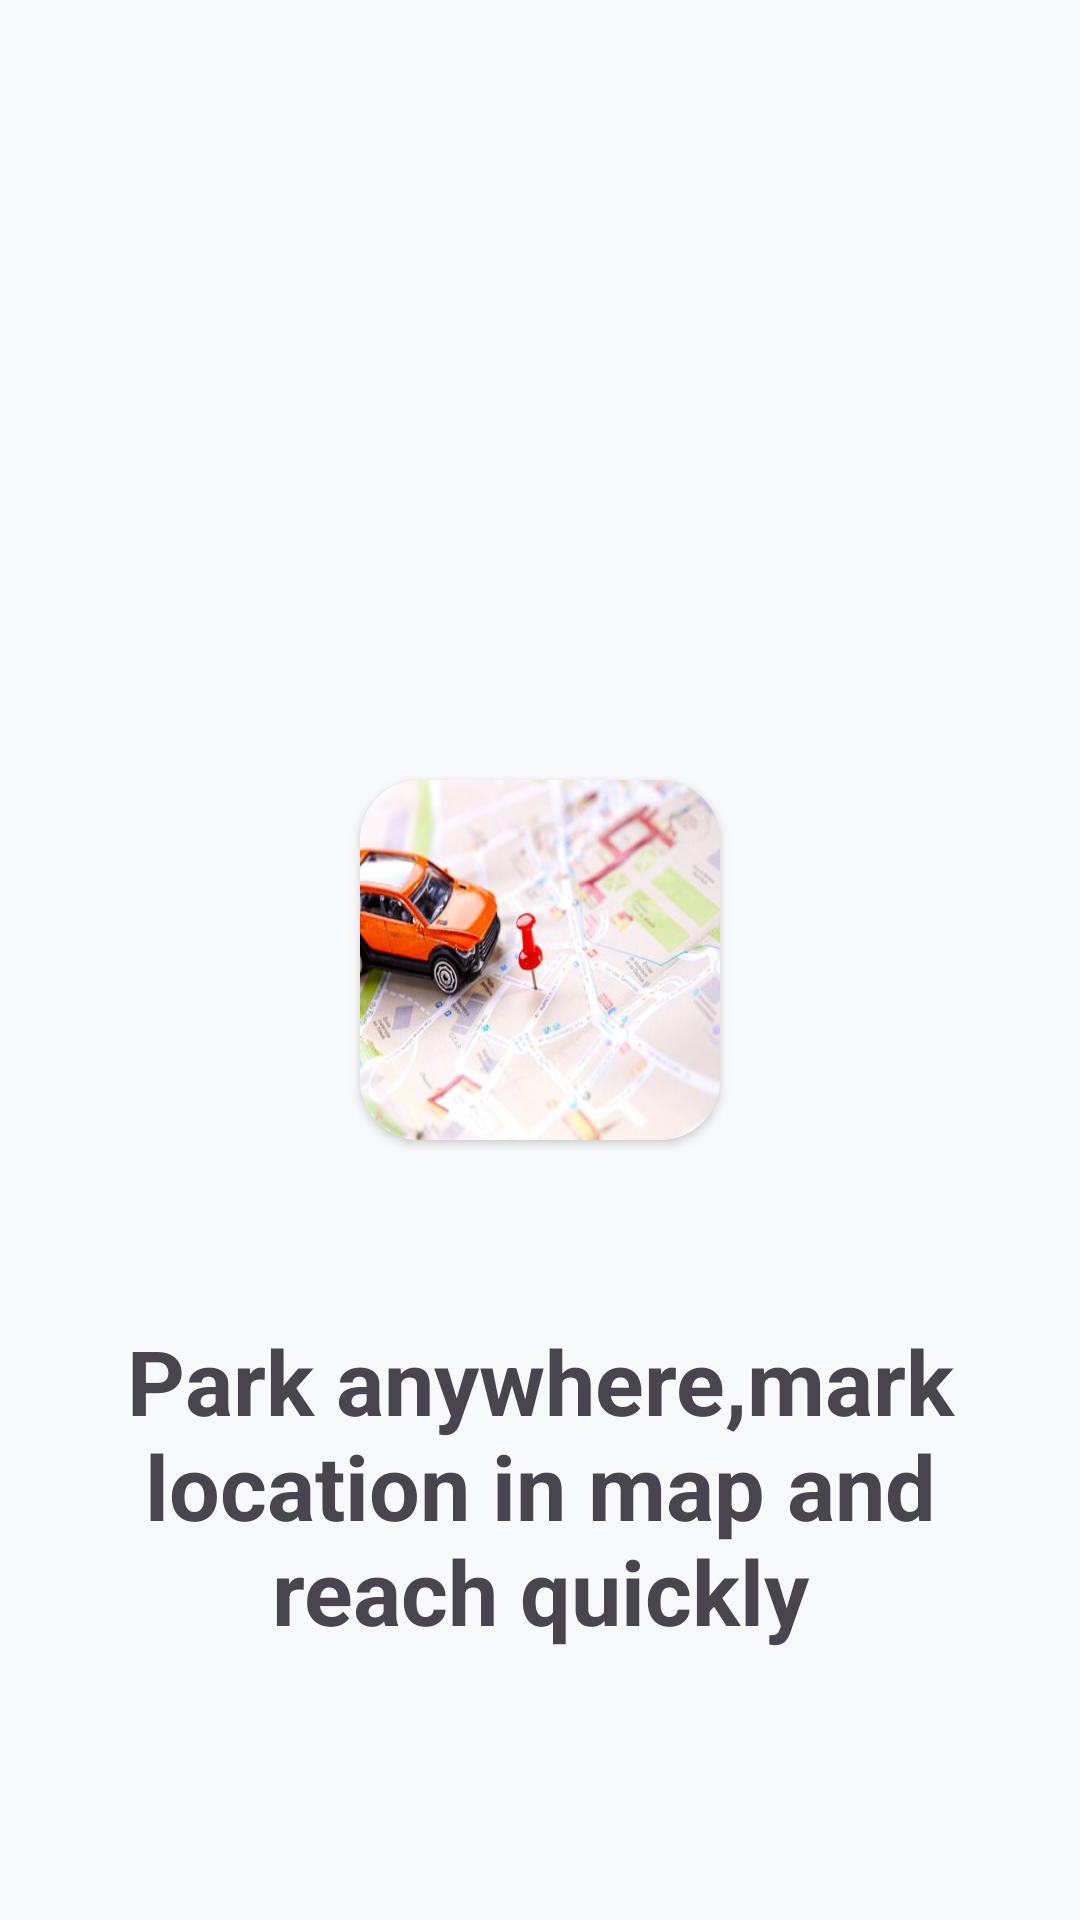

Screen size 1080 × 1920. Icon name, then its box in pixels as (x1, y1, x2, y2):
car: (360, 780, 720, 1140)
